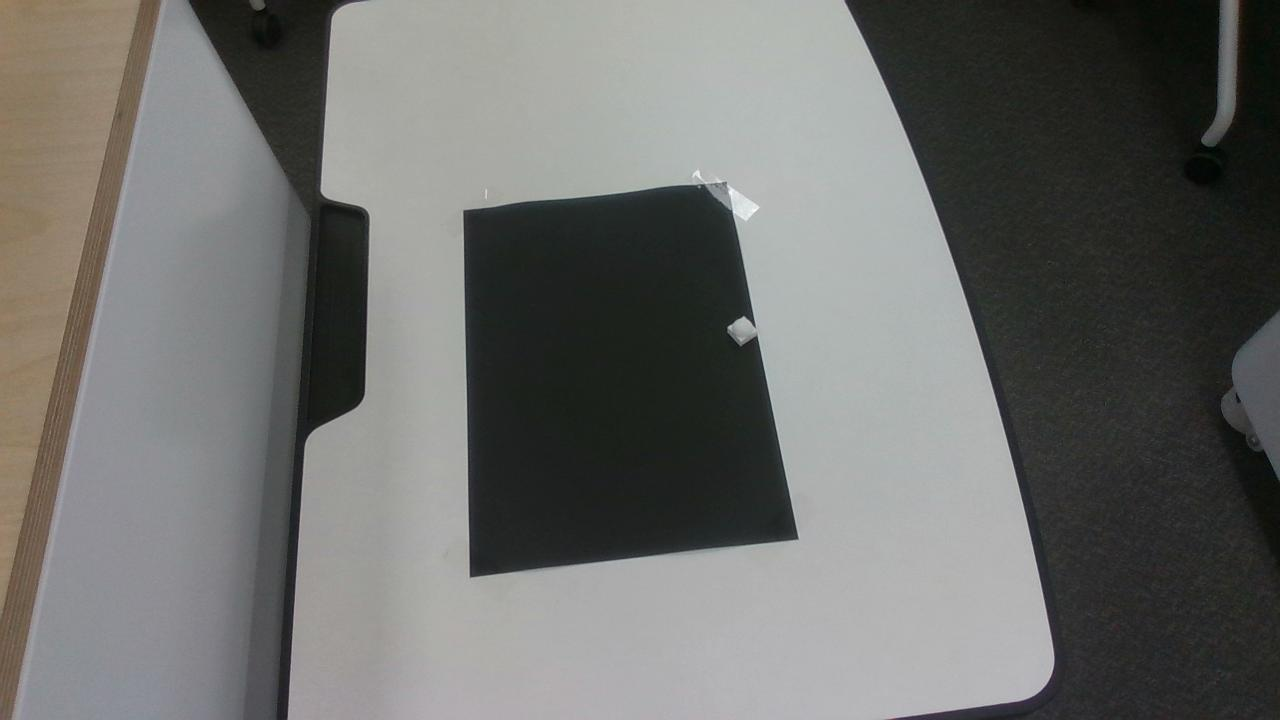cube: (728, 316, 757, 346)
